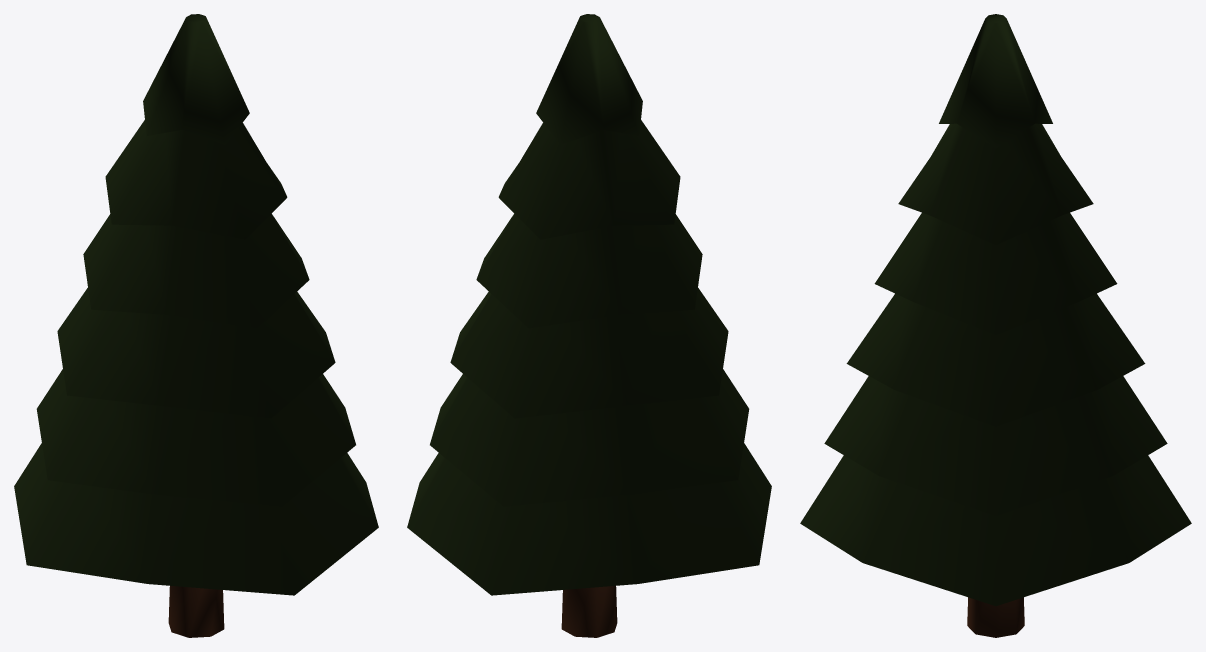
Rendered from tree.dae.
The picture shows the model from 3 angles, left to right: view 1: azimuth 30°, elevation 25°; view 2: azimuth 150°, elevation 25°; view 3: azimuth 270°, elevation 25°; orthographic projection.
Visible parts, largest first — view 1: Cylinder; view 2: Cylinder; view 3: Cylinder.
Part boxes in pixels (x1,y1,x2,y2): Cylinder: [14, 14, 378, 637]; Cylinder: [407, 14, 771, 637]; Cylinder: [800, 14, 1191, 637].
Bounding box in the file's own units: 3.71 × 3.71 × 6.34.
